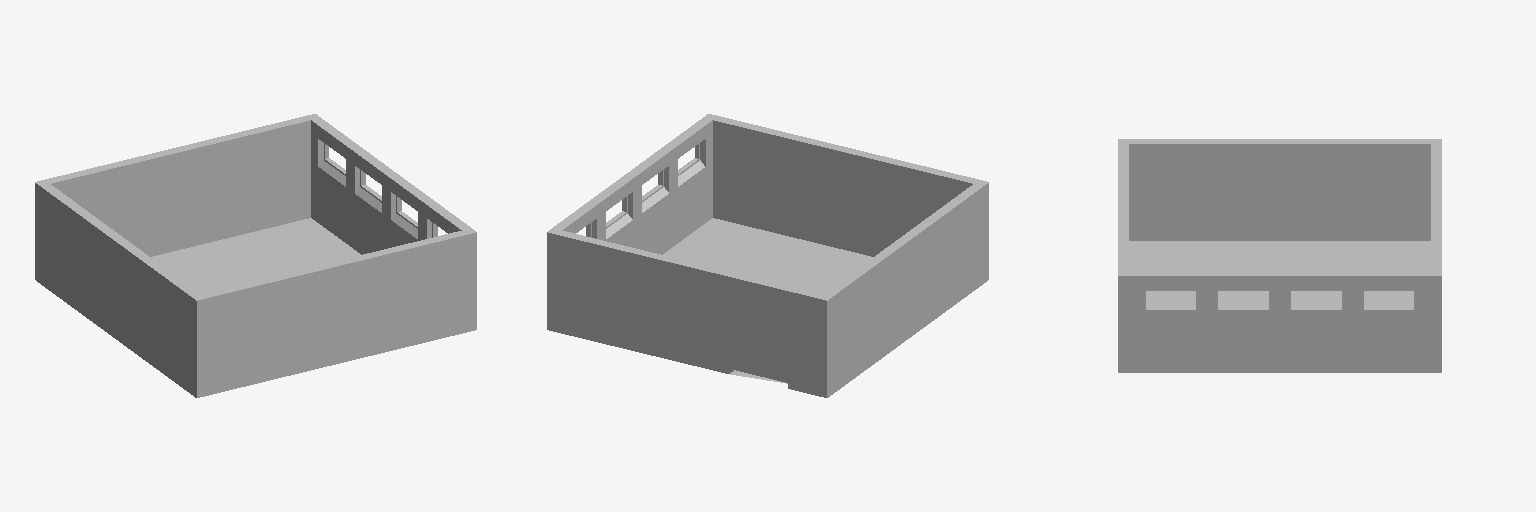
Rendered from EscapeRoom_wallsUpper.obj.
3 views of the same model, side by side, from view 1: azimuth 30°, elevation 25°; view 2: azimuth 150°, elevation 25°; view 3: azimuth 270°, elevation 25° (orthographic).
Visible parts, largest first — view 1: Mesh1 Group1 Model; view 2: Mesh1 Group1 Model; view 3: Mesh1 Group1 Model.
Boxes of the visible parts, x1=… form: Mesh1 Group1 Model: x1=35, y1=114, x2=476, y2=397; Mesh1 Group1 Model: x1=547, y1=114, x2=988, y2=397; Mesh1 Group1 Model: x1=1118, y1=139, x2=1441, y2=372.
Size of the model in its own units: 4.3 by 1.43 by 4.3.